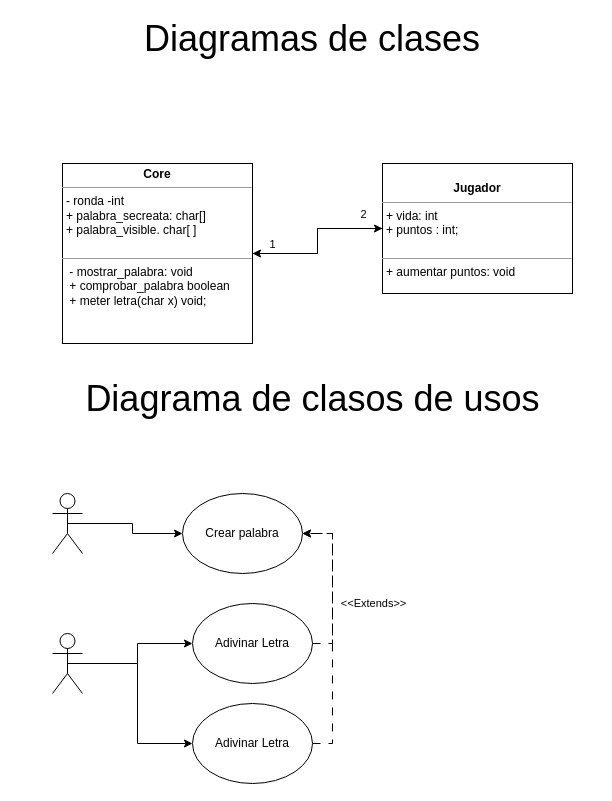
Some shapes in this 612 by 801 pixel diagram are drawn without their labels. Here are the shapes that lost their labels. From the top down, the centre of each, then its label:
[67,523]: JugadorSecreto
[67,663]: JugadorAdivinador
